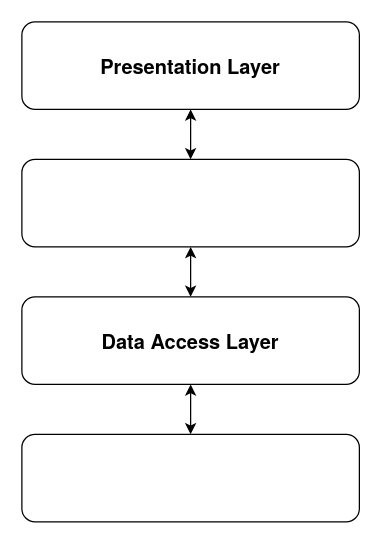
The diagram is 381 pixels wide and 544 high, and some of its shapes have lost their labels. The shapes that lost their labels are listed below. From the top down, each one's box as (x1, y1, x2, y2) in pixels, then its label:
(21, 158, 359, 247): Logic Layer
(21, 433, 359, 522): Database
